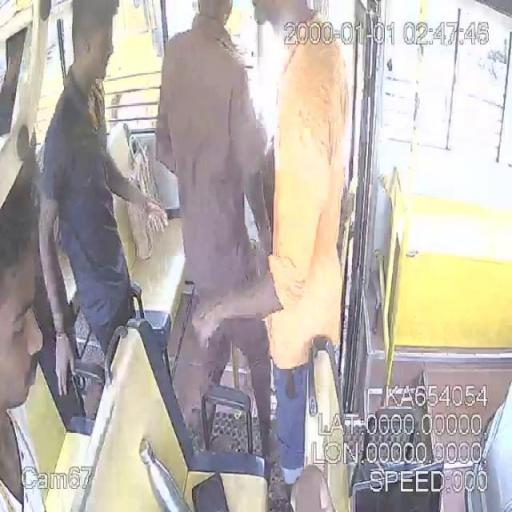persona: (153, 1, 281, 463), (35, 2, 170, 408), (252, 0, 352, 510), (0, 125, 48, 510)
